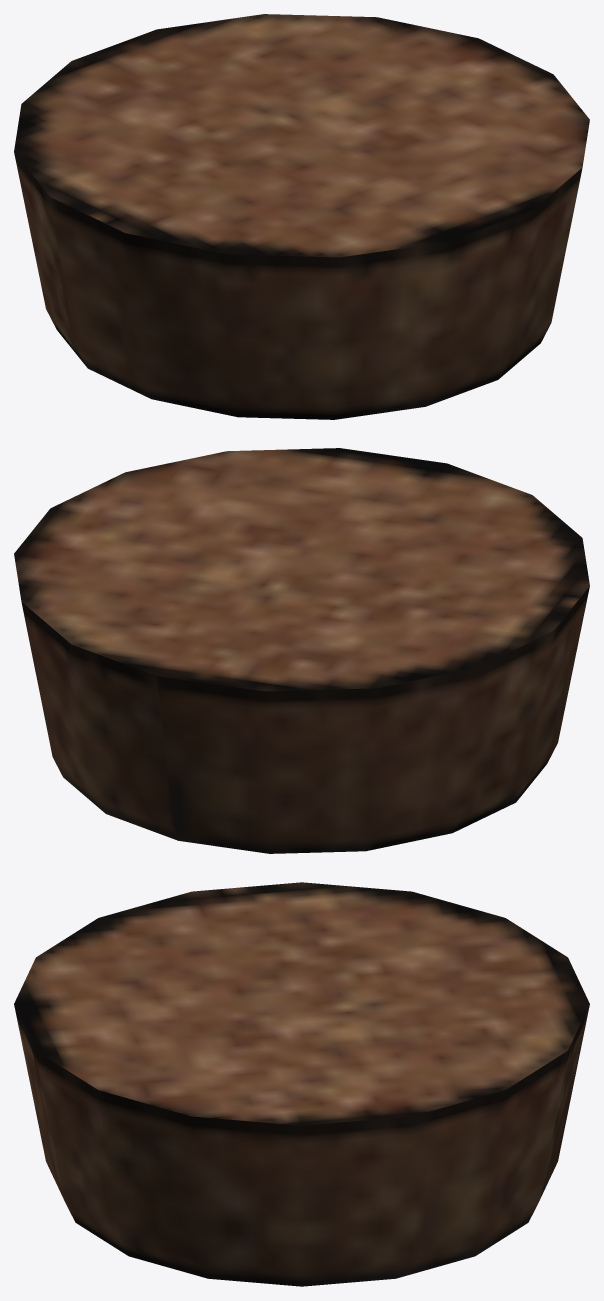
Rendered from cork_gib.fbx.
3 views of the same model, one above another, from view 1: azimuth 30°, elevation 25°; view 2: azimuth 150°, elevation 25°; view 3: azimuth 270°, elevation 25° (orthographic).
Parts seen in each view (by area): view 1: cork_gib; view 2: cork_gib; view 3: cork_gib.
Boxes of the visible parts, x1=… form: cork_gib: x1=14, y1=14, x2=589, y2=419; cork_gib: x1=14, y1=448, x2=589, y2=853; cork_gib: x1=14, y1=882, x2=589, y2=1286.
Bounding box in the file's own units: 29.36 × 10.07 × 29.36.
